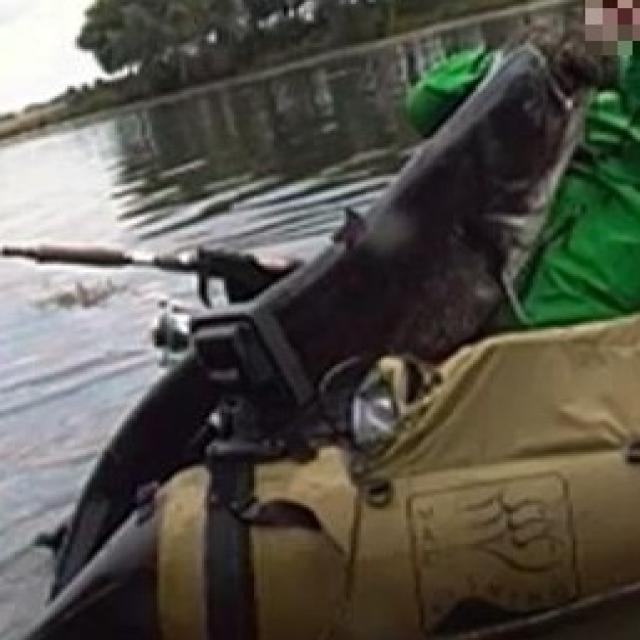Catfish: (72, 47, 600, 503)
